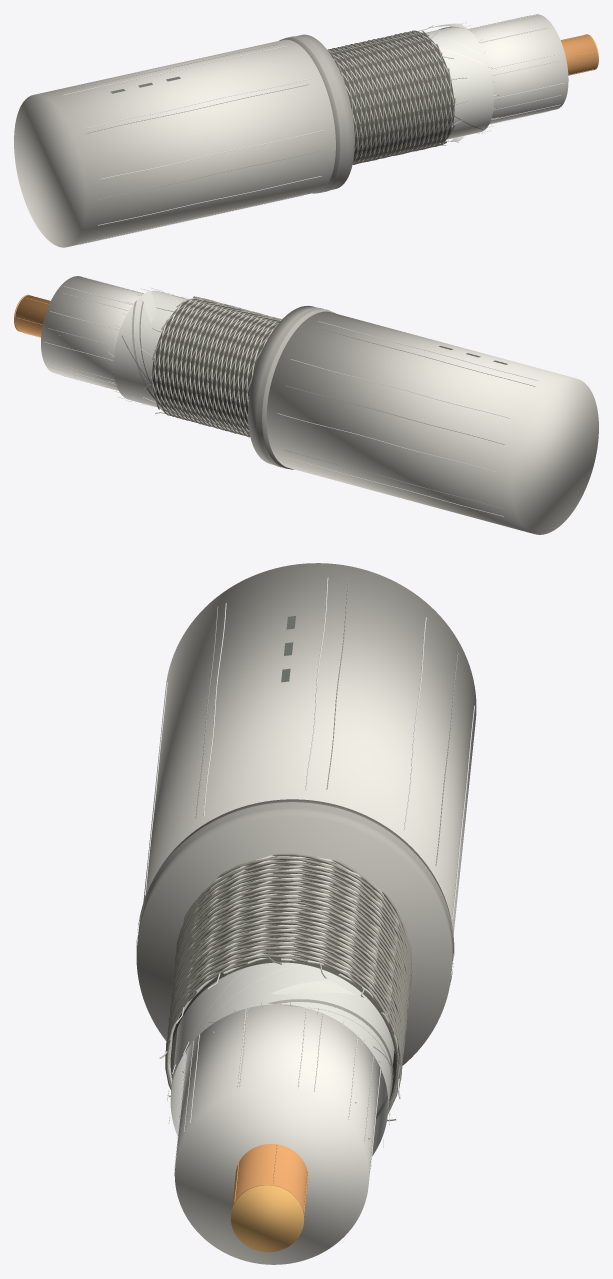
The model's file is rf-lmr240llpl-macro.glb.
3 renders of one model, top to bottom at view 1: azimuth 30°, elevation 25°; view 2: azimuth 150°, elevation 25°; view 3: azimuth 270°, elevation 25°, orthographic. The views are drawn at different scales.
Parts seen in each view (by area): view 1: macro jacket body, macro dielectric exposed core, shadow seen through braid windows, continuous foil sleeve under braid, thick jacket cut wall, polished solid center conductor, rounded jacket cut lip, macro braid shadow carrier 07 strand 1, macro braid shadow carrier 06 strand 1, macro braid shadow carrier 05 strand 1, macro braid shadow carrier 08 strand 1, macro braid shadow carrier 04 strand 1 (+7 smaller); view 2: macro jacket body, macro dielectric exposed core, shadow seen through braid windows, continuous foil sleeve under braid, thick jacket cut wall, rounded jacket cut lip, polished solid center conductor, macro braid shadow carrier 03 strand 1, macro braid shadow carrier 02 strand 1, macro braid shadow carrier 01 strand 1, macro braid shadow carrier 12 strand 1, macro braid shadow carrier 04 strand 1 (+7 smaller); view 3: macro jacket body, macro dielectric exposed core, thick jacket cut wall, continuous foil sleeve under braid, shadow seen through braid windows, polished conductor cut face glow, polished solid center conductor, rounded jacket cut lip, macro braid shadow carrier 05 strand 2, macro braid shadow carrier 10 strand 2, macro braid shadow carrier 08 strand 2, macro braid shadow carrier 09 strand 2 (+8 smaller).
Part boxes in pixels (bbox=[...]): macro jacket body: bbox=[14, 39, 335, 247]; macro dielectric exposed core: bbox=[469, 14, 568, 123]; shadow seen through braid windows: bbox=[331, 33, 454, 161]; continuous foil sleeve under braid: bbox=[426, 26, 493, 139]; thick jacket cut wall: bbox=[279, 34, 354, 193]; polished solid center conductor: bbox=[561, 34, 597, 75]; rounded jacket cut lip: bbox=[284, 36, 346, 193]; macro braid shadow carrier 07 strand 1: bbox=[356, 30, 437, 164]; macro braid shadow carrier 06 strand 1: bbox=[353, 31, 432, 164]; macro braid shadow carrier 05 strand 1: bbox=[349, 32, 428, 164]; macro braid shadow carrier 08 strand 1: bbox=[361, 31, 442, 162]; macro braid shadow carrier 04 strand 1: bbox=[345, 33, 424, 162]; macro jacket body: bbox=[266, 311, 598, 534]; macro dielectric exposed core: bbox=[41, 276, 143, 390]; shadow seen through braid windows: bbox=[152, 299, 279, 433]; continuous foil sleeve under braid: bbox=[113, 290, 187, 407]; thick jacket cut wall: bbox=[248, 305, 335, 469]; rounded jacket cut lip: bbox=[256, 307, 330, 468]; polished solid center conductor: bbox=[15, 295, 50, 336]; macro braid shadow carrier 03 strand 1: bbox=[160, 304, 279, 430]; macro braid shadow carrier 02 strand 1: bbox=[164, 304, 281, 431]; macro braid shadow carrier 01 strand 1: bbox=[168, 306, 280, 431]; macro braid shadow carrier 12 strand 1: bbox=[173, 307, 278, 433]; macro braid shadow carrier 04 strand 1: bbox=[155, 303, 277, 428]; macro jacket body: bbox=[143, 563, 476, 933]; macro dielectric exposed core: bbox=[174, 1004, 380, 1264]; thick jacket cut wall: bbox=[136, 799, 453, 1065]; continuous foil sleeve under braid: bbox=[170, 962, 394, 1156]; shadow seen through braid windows: bbox=[170, 859, 397, 1100]; polished conductor cut face glow: bbox=[231, 1185, 304, 1252]; polished solid center conductor: bbox=[232, 1144, 307, 1216]; rounded jacket cut lip: bbox=[136, 802, 454, 984]; macro braid shadow carrier 05 strand 2: bbox=[168, 891, 412, 1086]; macro braid shadow carrier 10 strand 2: bbox=[167, 861, 409, 1044]; macro braid shadow carrier 08 strand 2: bbox=[167, 853, 410, 1036]; macro braid shadow carrier 09 strand 2: bbox=[166, 857, 410, 1046].
Bounding box in the file's own units: 6.47 × 1.68 × 1.79.
